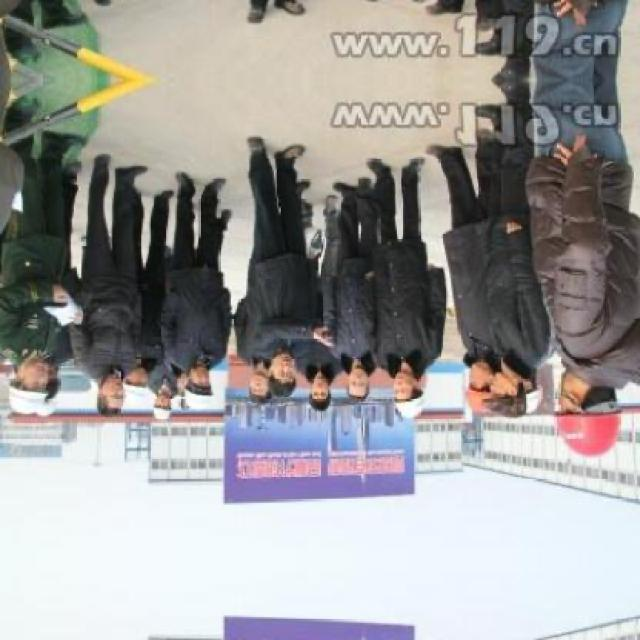con casco: (551, 398, 625, 462), (5, 374, 60, 416), (397, 384, 437, 426)
sin casco: (264, 356, 309, 397)
